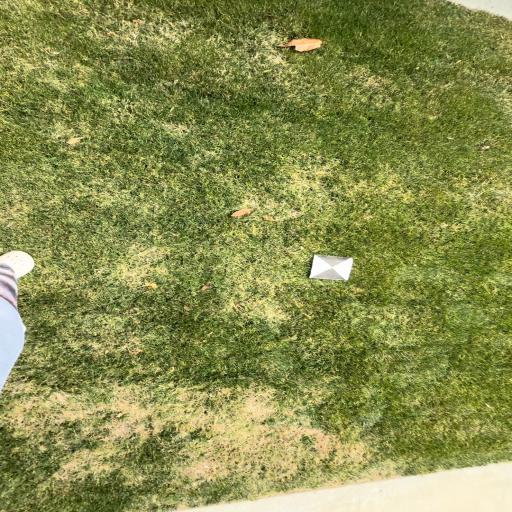target: (310, 255, 353, 281)
